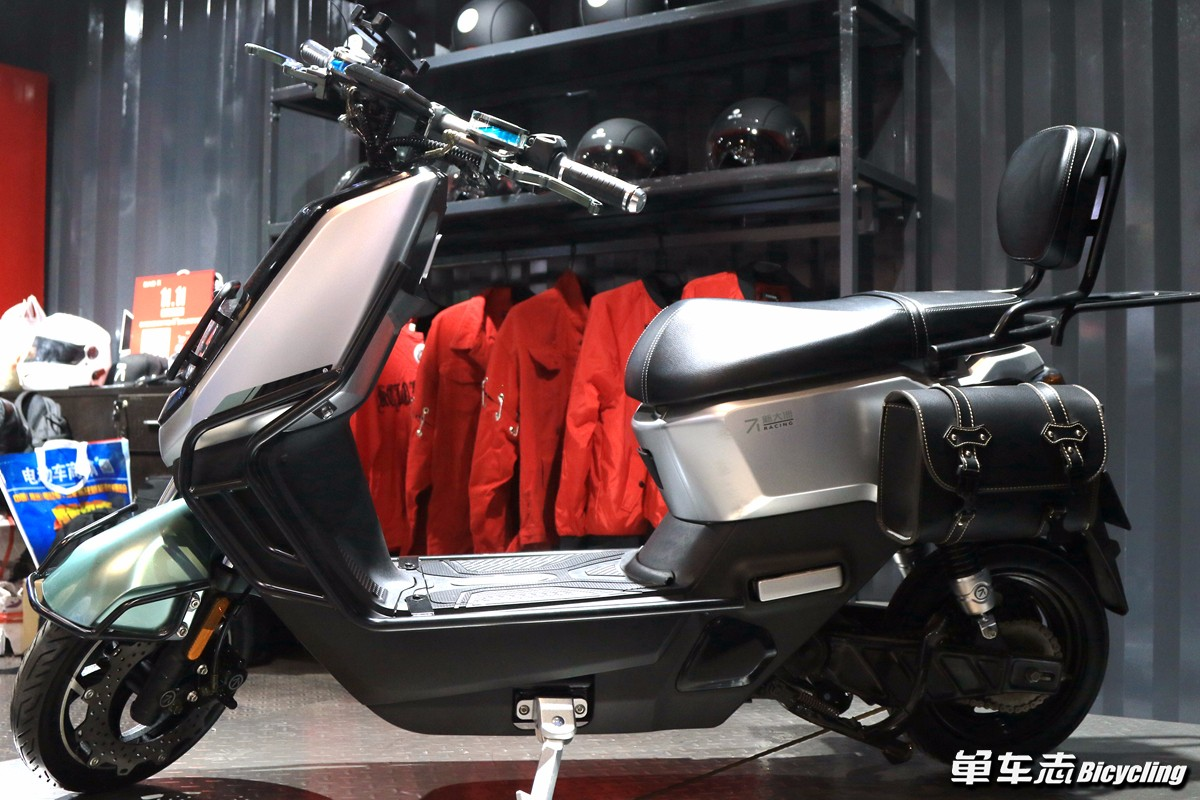电动车: (1, 38, 1152, 786)
